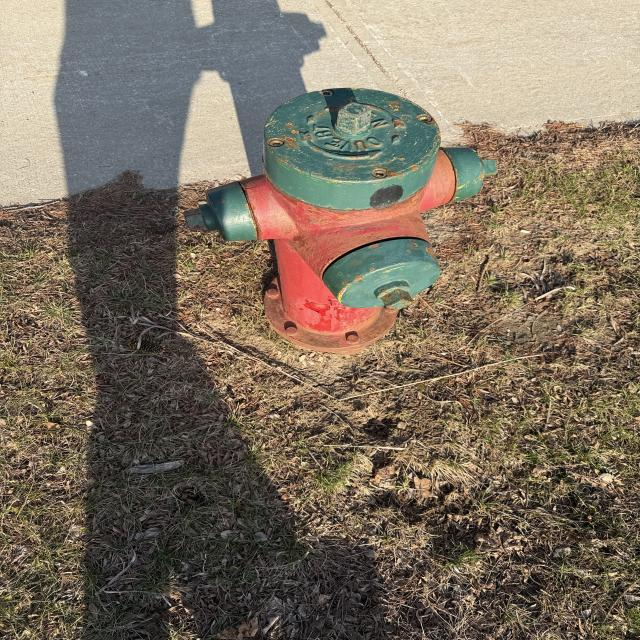Fire hydrant: (182, 87, 499, 355)
